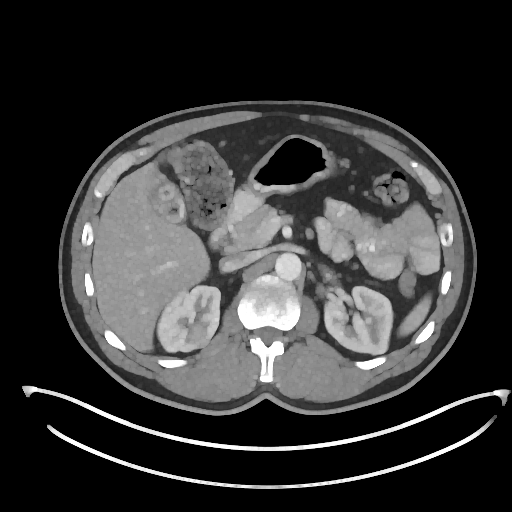Lesion: (181, 321, 209, 348)
